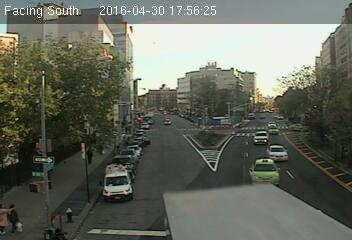neg: (166, 179, 201, 226), (26, 149, 55, 187), (114, 111, 143, 149), (109, 171, 135, 206), (294, 151, 318, 182), (182, 76, 198, 98), (96, 213, 112, 234), (206, 113, 220, 132), (156, 93, 169, 110), (258, 118, 270, 134), (62, 207, 73, 222)
pos: (4, 200, 28, 232), (82, 145, 98, 166)
